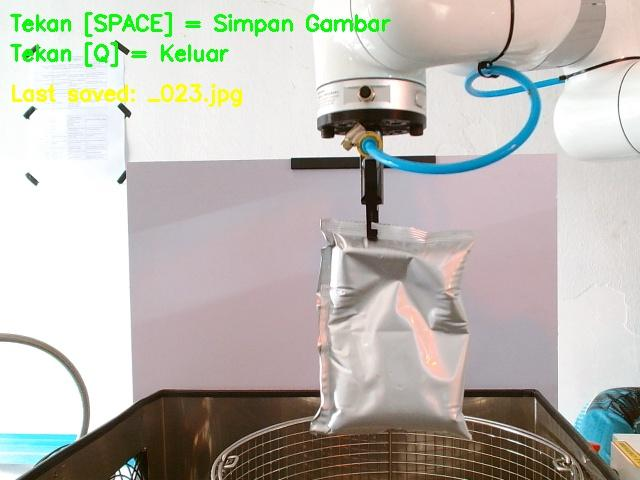retort-pouch: (310, 218, 479, 438)
